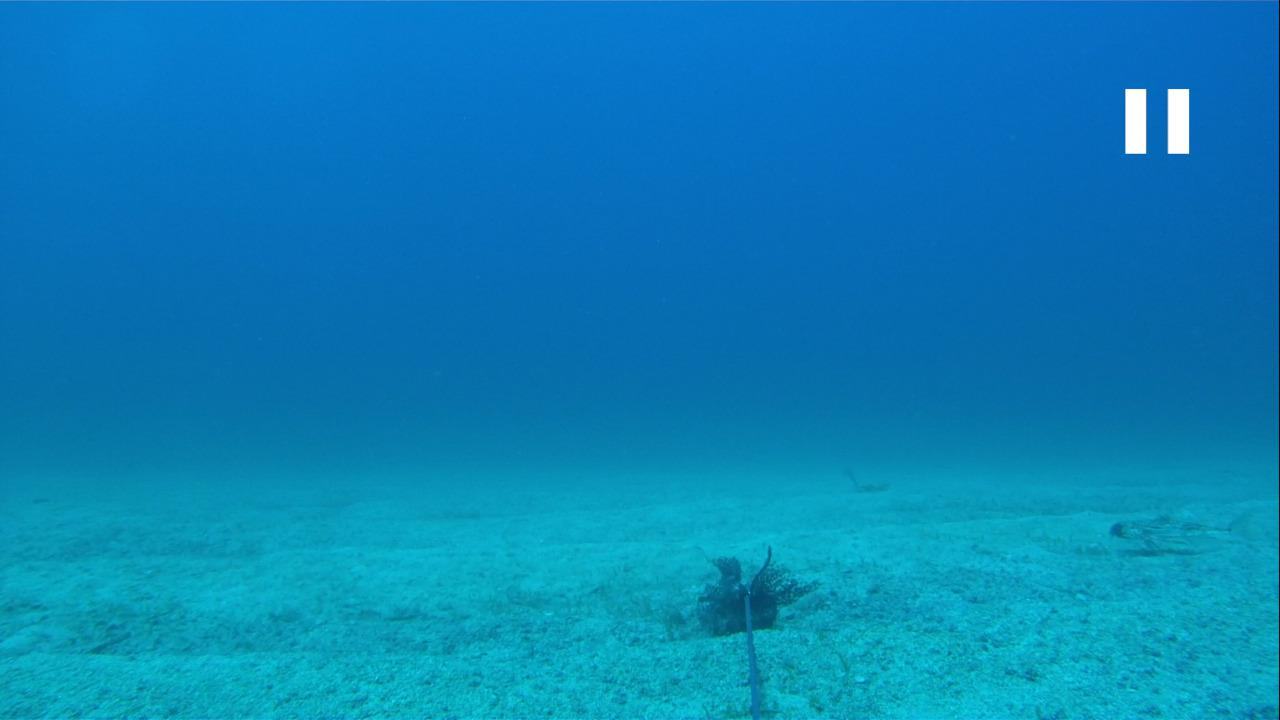dactylopterus: (1106, 500, 1255, 561)
